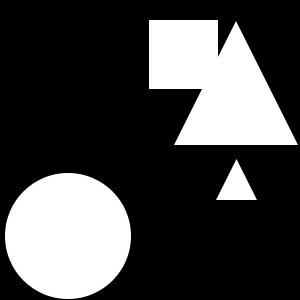circle: (149, 20, 218, 89)
rectangle: (5, 173, 131, 299)
triangle: (174, 21, 298, 145), (216, 159, 257, 200)
